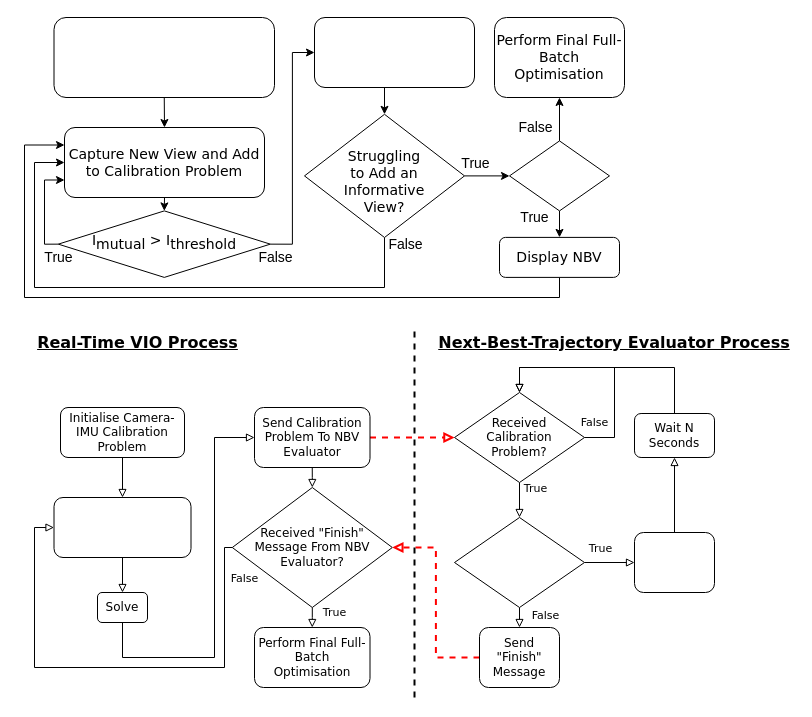
Image size: 812x717. Some labels were removed from this diagram. Each missing label, with the centre of its shape:
"Add Camera-IMU Measurements to Calibration Problem" goes at (122,527).
"Display Next-Best-Trajectory" goes at (674,562).
"Find NBV" goes at (559,175).
"Find Next-Best Trajectory" goes at (519,562).
"Initialise Camera Intrinsics and Extrinsics with First N Frames" goes at (163,57).
"Remove View from Calibration Problem" goes at (394,52).
